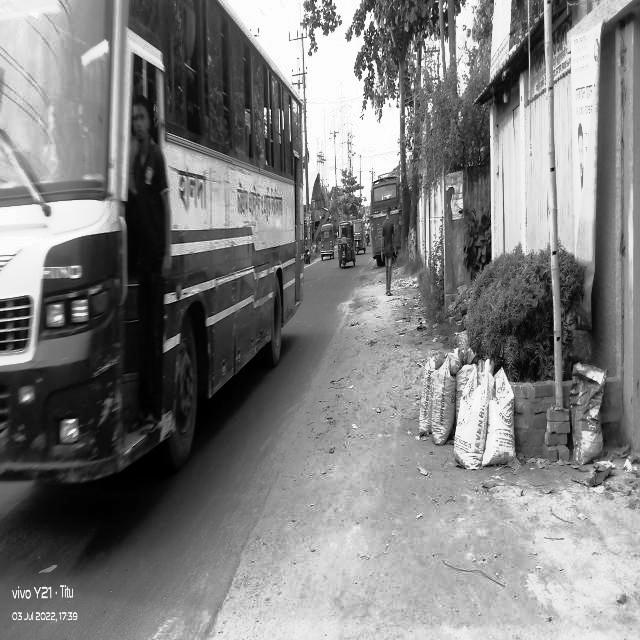Bus: (2, 0, 312, 514)
